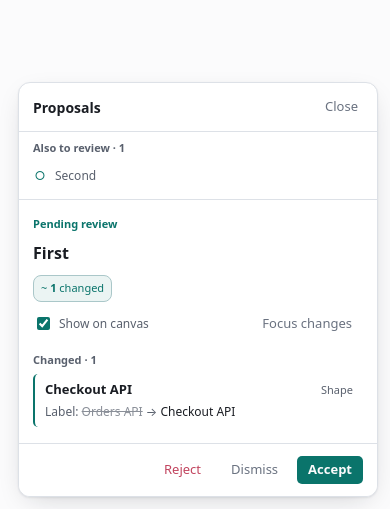
it: ProposalPanel accept › does not carry one proposal’s error over to the next one selected
Click the button "Accept": (330, 470) [297,456,363,484]
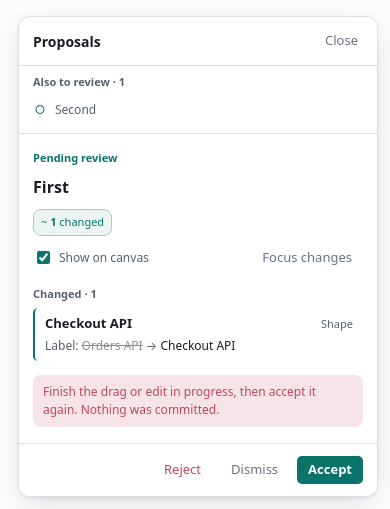
Expected: the message is shown, [33,375,363,427]
Click the text "Second": (76, 110) [55,101,96,119]
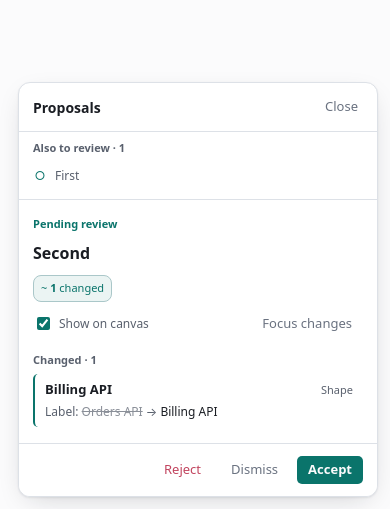
Expected: the button "Accept" is enabled, [297,456,363,484]
Expected: the message is gone
